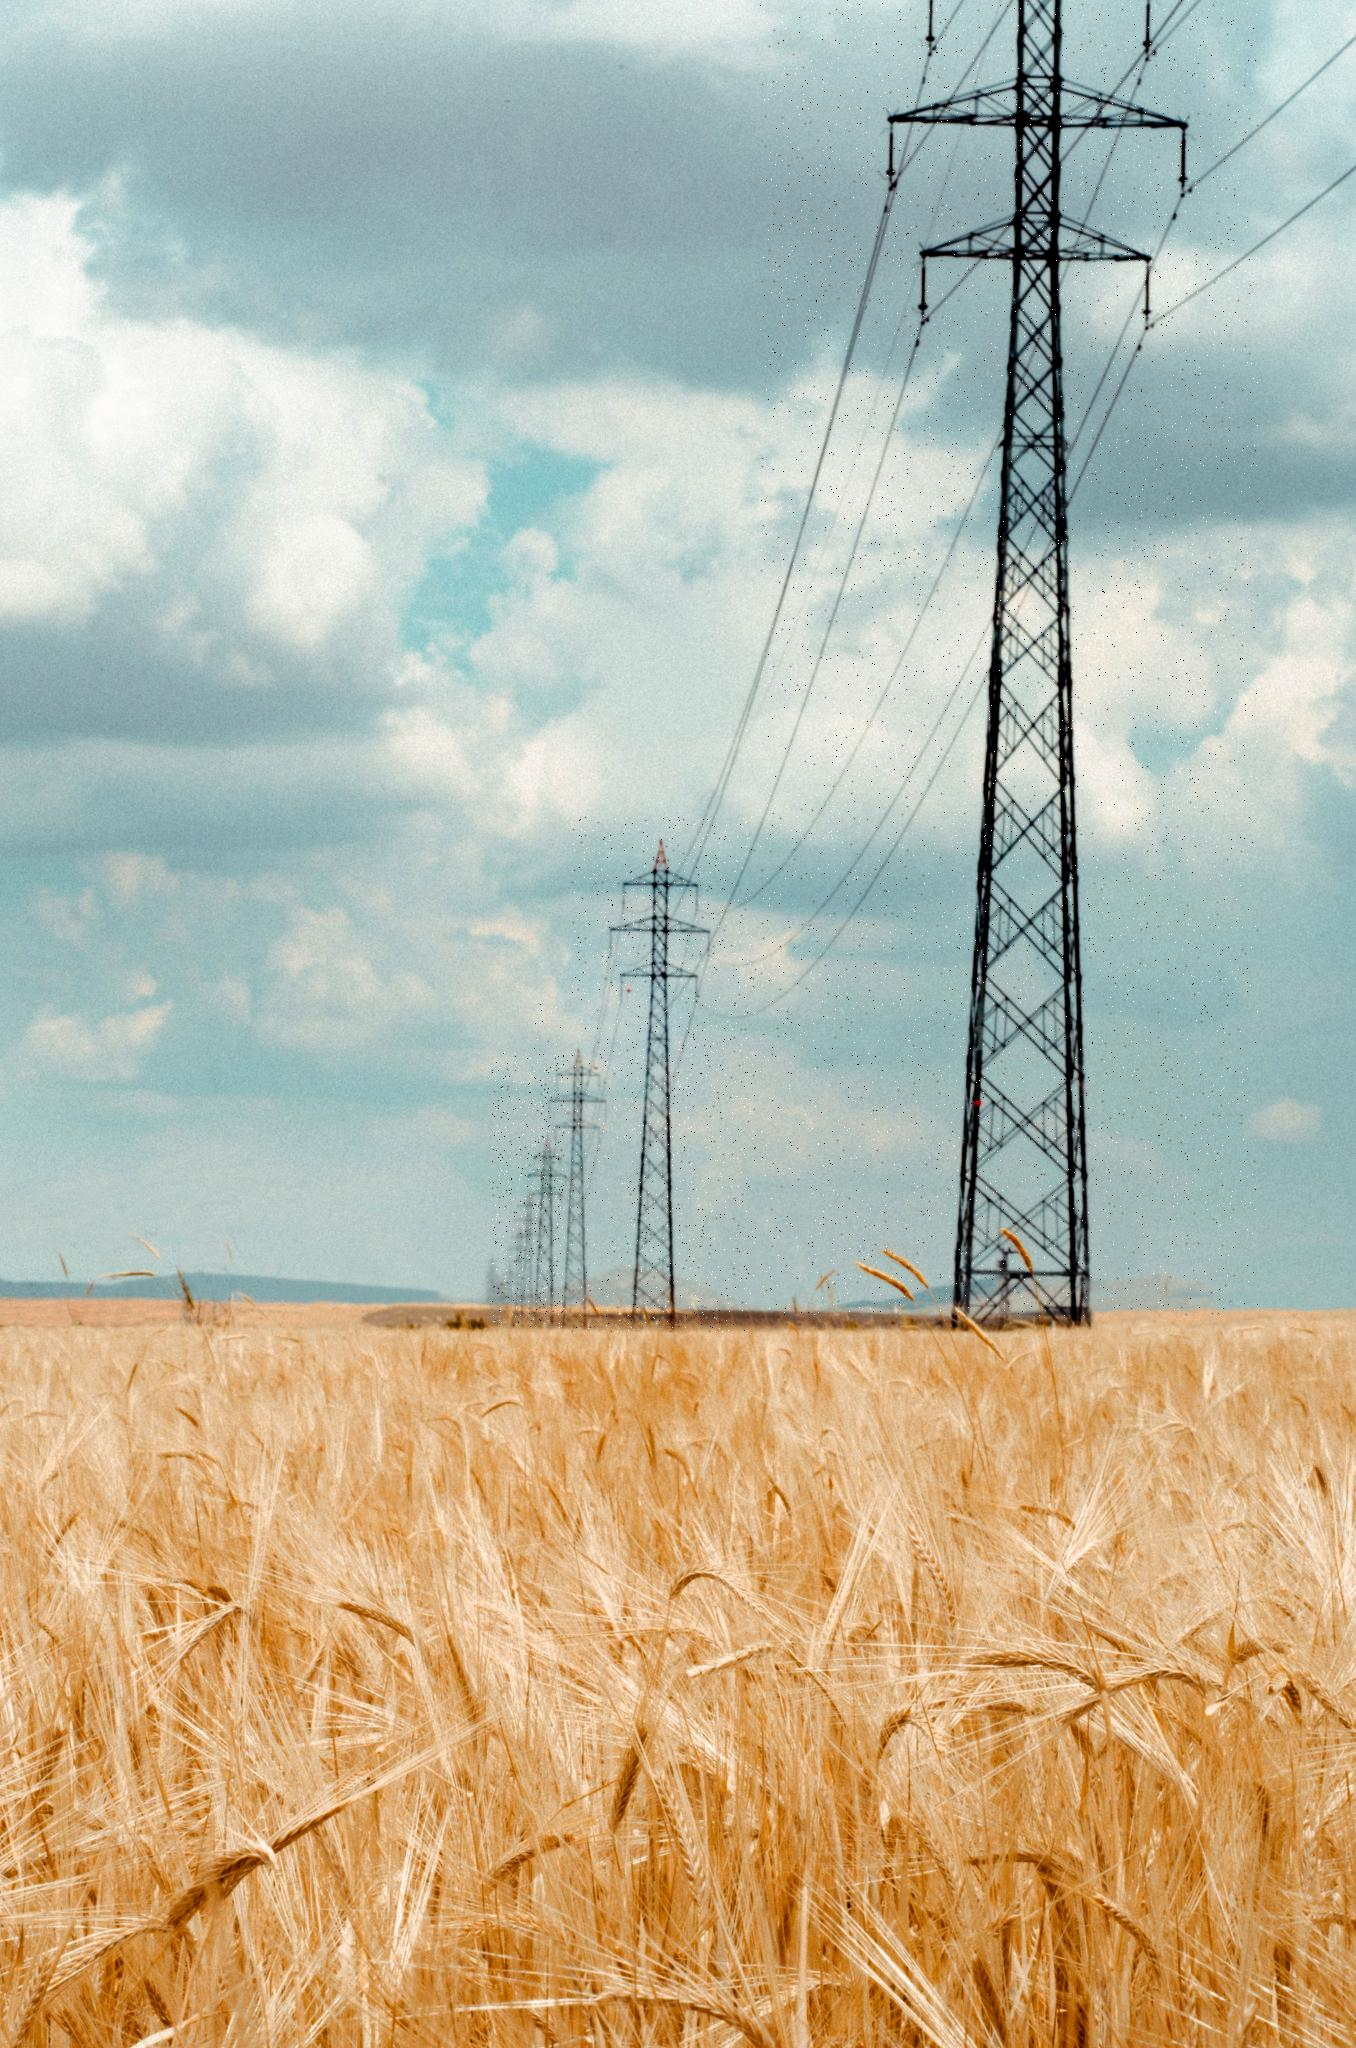cable tower: (760, 0, 1258, 1316), (572, 815, 757, 1333), (534, 998, 627, 1304), (492, 1053, 564, 1328)
